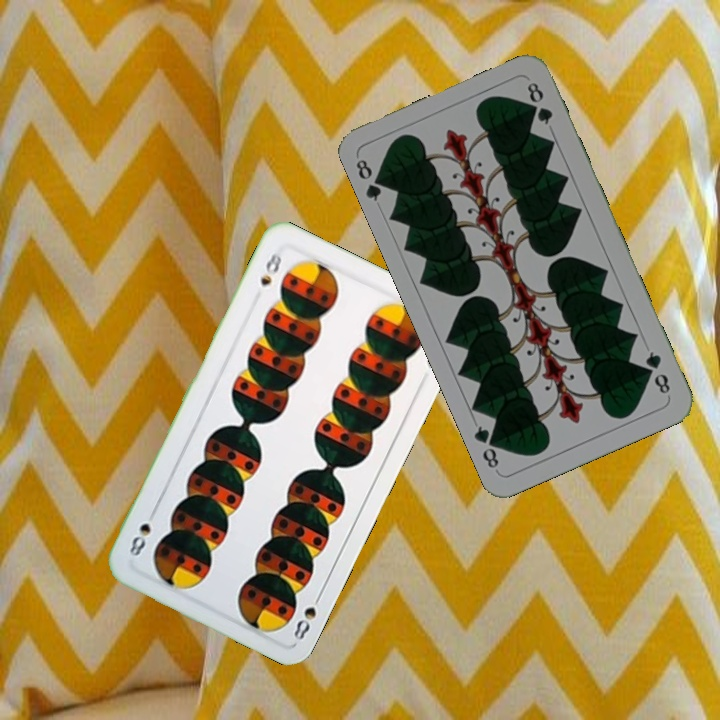G8: (351, 155, 390, 204), (641, 347, 673, 397)
S8: (289, 588, 325, 644), (256, 248, 285, 289)
